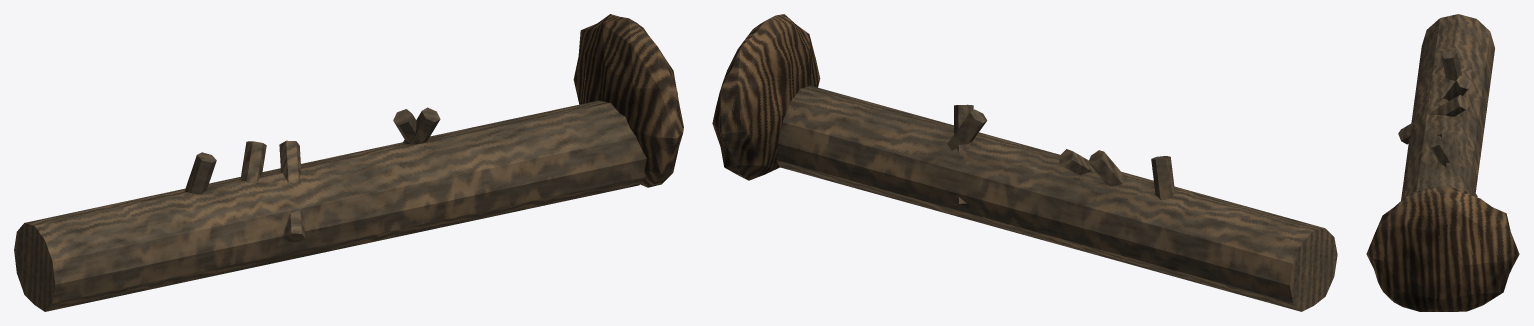
The model's file is snow_log.glb.
3 views of the same model, side by side, from view 1: azimuth 30°, elevation 25°; view 2: azimuth 150°, elevation 25°; view 3: azimuth 270°, elevation 25° (orthographic). The views are drawn at different scales.
Parts seen in each view (by area): view 1: snow_log; view 2: snow_log; view 3: snow_log.
Part boxes in pixels (x1,y1,x2,y2): snow_log: (14, 14, 683, 311); snow_log: (712, 14, 1337, 311); snow_log: (1366, 14, 1519, 311).
Bounding box in the file's own units: 3.41 × 0.8011 × 0.9157.
Materials: 1 (1 with a texture image).
